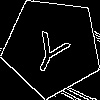Y: (27, 22, 76, 78)
